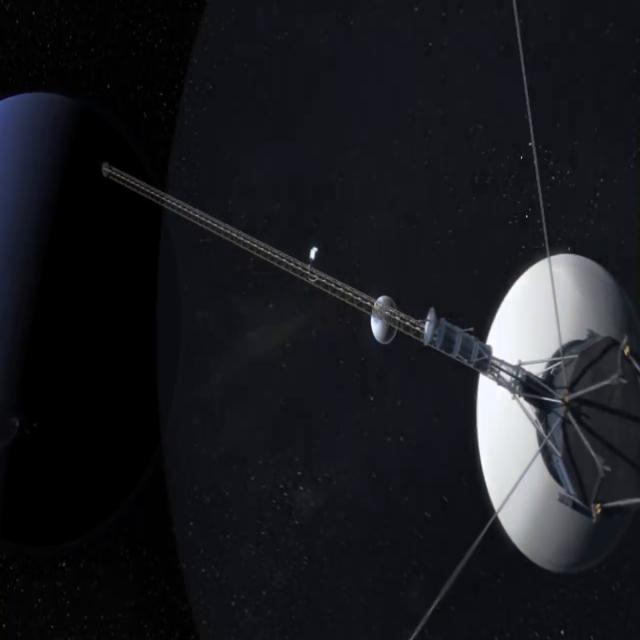satellite: (95, 0, 640, 640)
